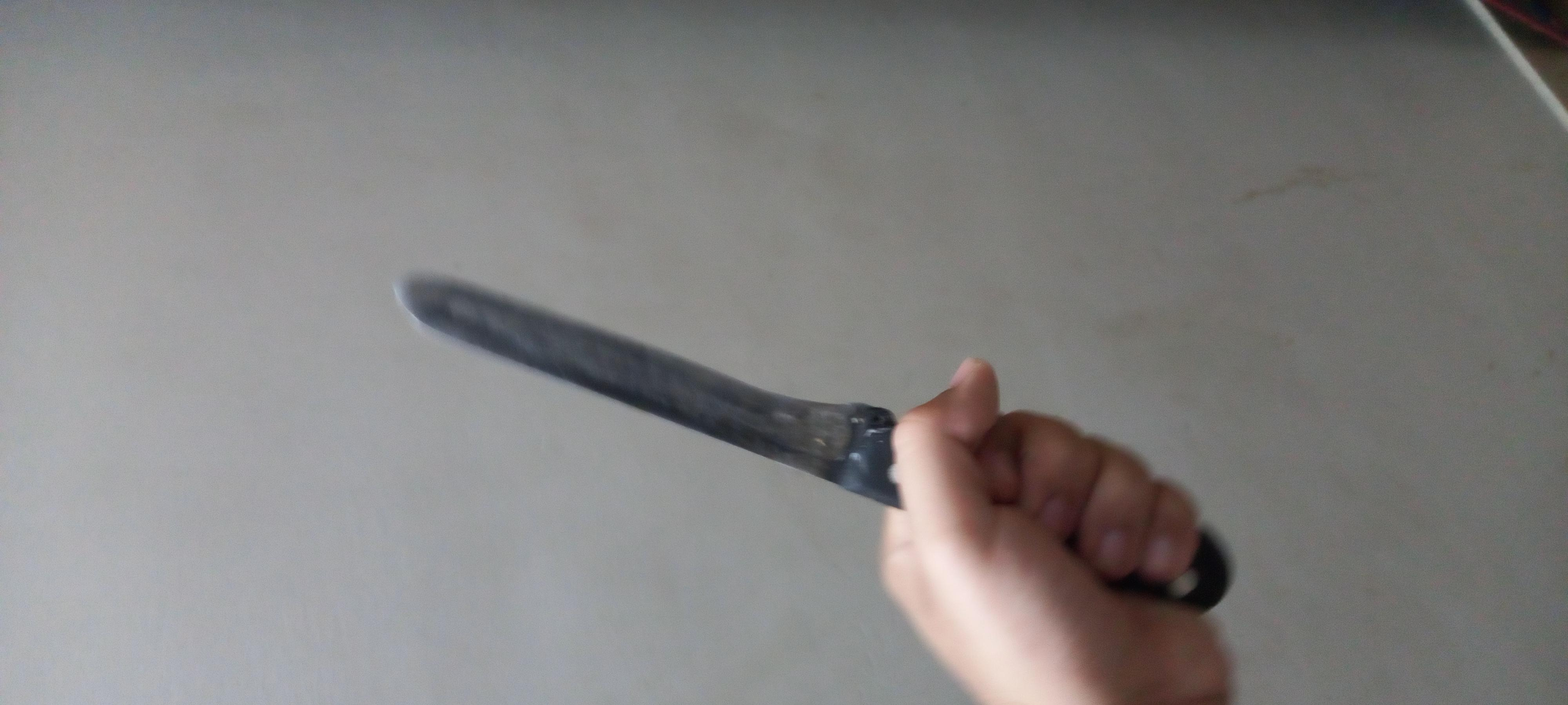knives: (173, 173, 994, 556)
